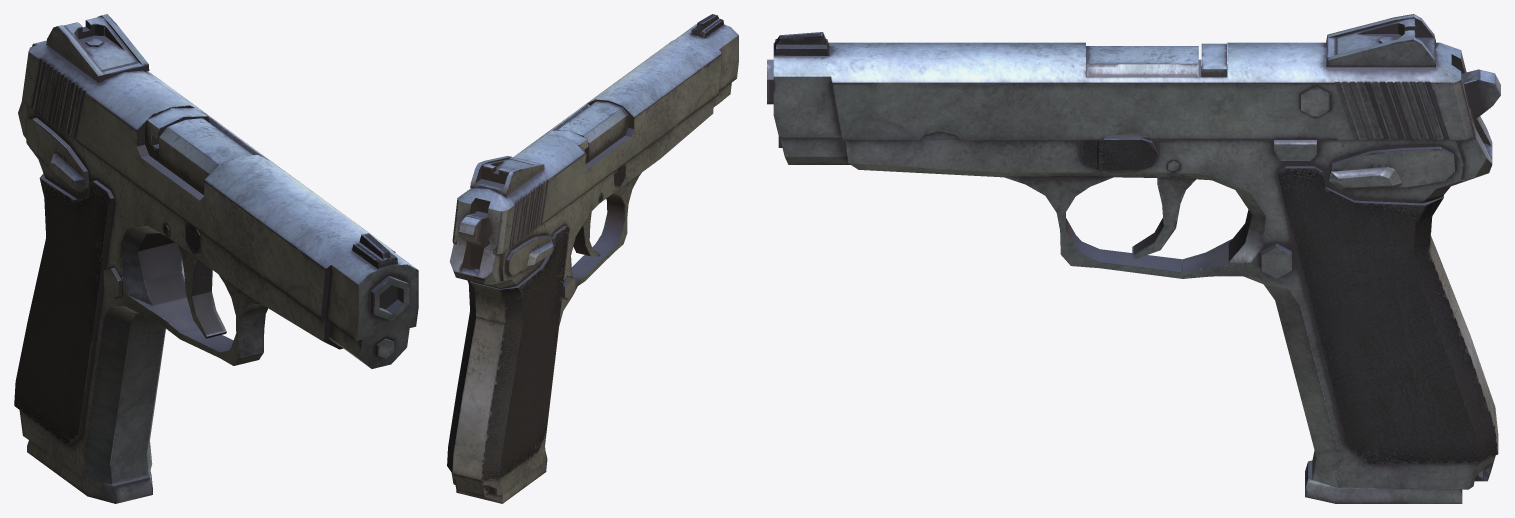
Rendered from TheGun.glb.
3 renders of one model, left to right at view 1: azimuth 30°, elevation 25°; view 2: azimuth 150°, elevation 25°; view 3: azimuth 270°, elevation 25°, orthographic. The views are drawn at different scales.
Parts seen in each view (by area): view 1: Gun; view 2: Gun; view 3: Gun.
Part boxes in pixels (x1,y1,x2,y2): Gun: (14, 14, 418, 503); Gun: (447, 14, 738, 503); Gun: (767, 14, 1500, 503).
Bounding box in the file's own units: 0.0404 × 0.1945 × 0.2808.
Materials: 1 (1 with a texture image).
